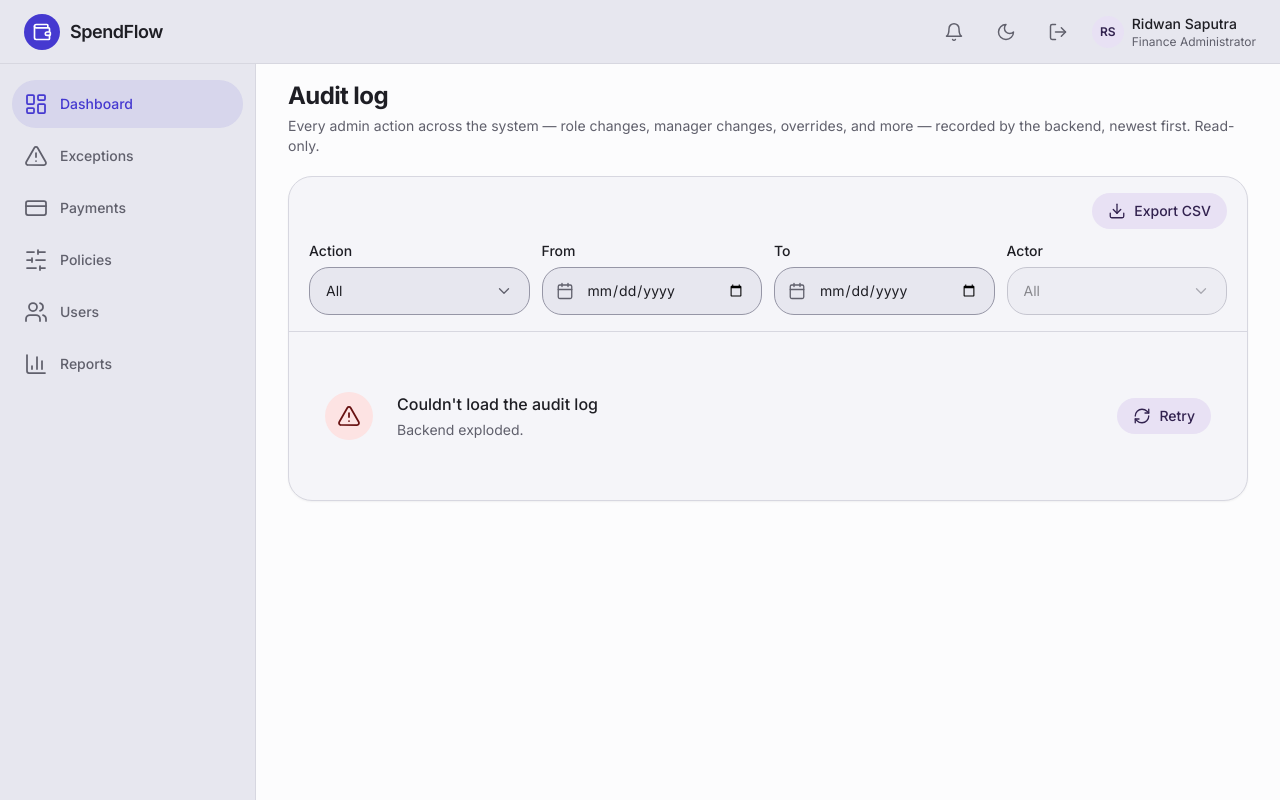
Scenario: /finance/audit (#71) › shows the error state and retries on failure
This screenshot has width=1280, height=800.
Expected: the text "Couldn't load the audit log" is shown, [397,394,598,414]
Expected: the text "Backend exploded." is shown, [397,421,524,438]
Click the button "Retry" at (1164, 416), box [1117,398,1211,434]
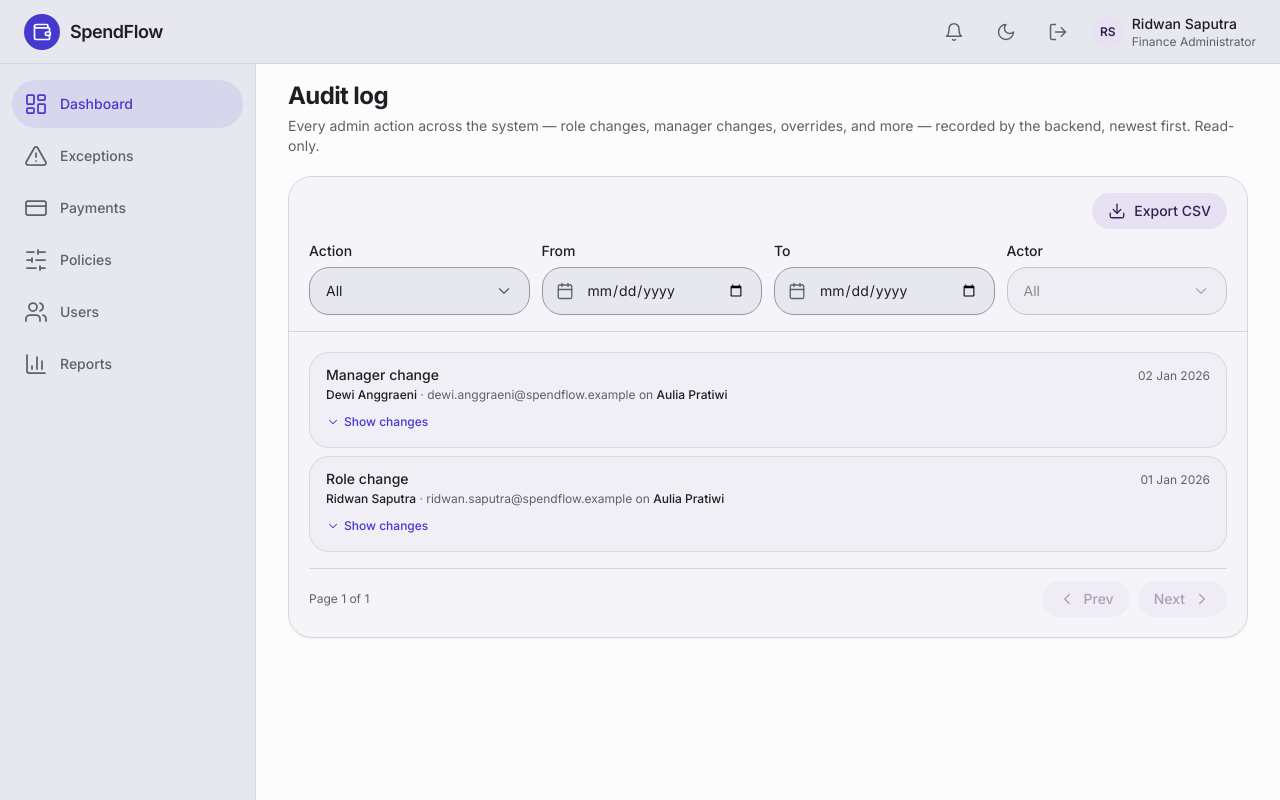
Expected: the text "Role change" is shown, [326,469,409,489]
